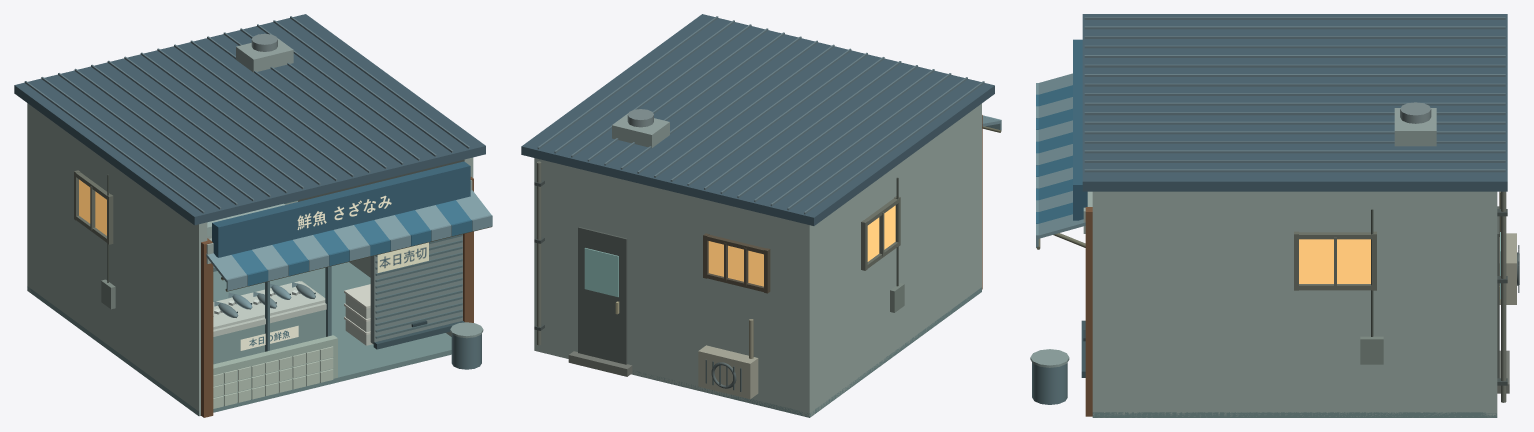
File: fishmonger.glb
3 views of the same model, side by side, from view 1: azimuth 30°, elevation 25°; view 2: azimuth 150°, elevation 25°; view 3: azimuth 270°, elevation 25° (orthographic). The views are drawn at different scales.
Parts seen in each view (by area): view 1: 涟漪鲜鱼铺, Group_303; view 2: 涟漪鲜鱼铺, Group_278, Group_303; view 3: 涟漪鲜鱼铺, Group_312, Group_278.
Part boxes in pixels (bbox=[...]): 涟漪鲜鱼铺: bbox=[14, 14, 492, 417]; Group_303: bbox=[74, 170, 115, 309]; 涟漪鲜鱼铺: bbox=[521, 14, 1001, 417]; Group_278: bbox=[534, 161, 770, 399]; Group_303: bbox=[861, 177, 904, 312]; 涟漪鲜鱼铺: bbox=[1030, 14, 1507, 417]; Group_312: bbox=[1294, 209, 1383, 364]; Group_278: bbox=[1497, 191, 1519, 402].
Bounding box in the file's own units: 5.1 × 3.8 × 6.28.
61 materials, 3 textured.
